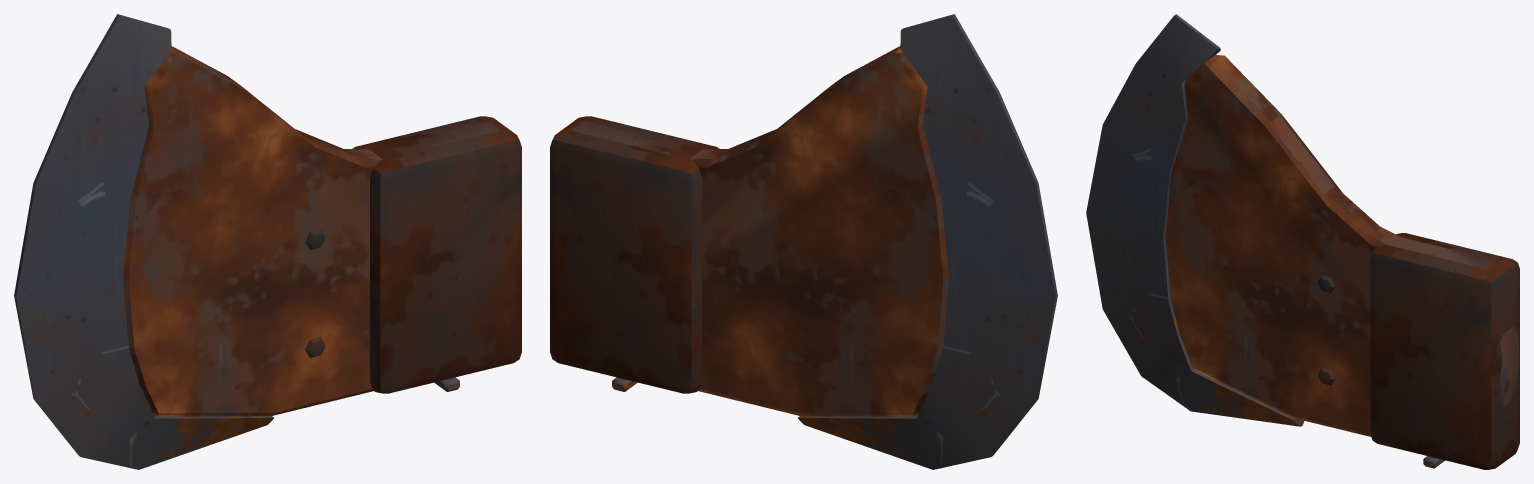
The model's file is Blade_Axe.glb.
3 views of the same model, side by side, from view 1: azimuth 30°, elevation 25°; view 2: azimuth 150°, elevation 25°; view 3: azimuth 330°, elevation 25° (orthographic). The views are drawn at different scales.
Parts seen in each view (by area): view 1: Blade_Axe; view 2: Blade_Axe; view 3: Blade_Axe.
Boxes of the visible parts, x1,y1,x2,y2 form: Blade_Axe: [14, 14, 521, 469]; Blade_Axe: [550, 14, 1057, 469]; Blade_Axe: [1086, 14, 1519, 469].
Bounding box in the file's own units: 0.387 × 0.34 × 0.052.
Materials: 3 (3 with a texture image).
